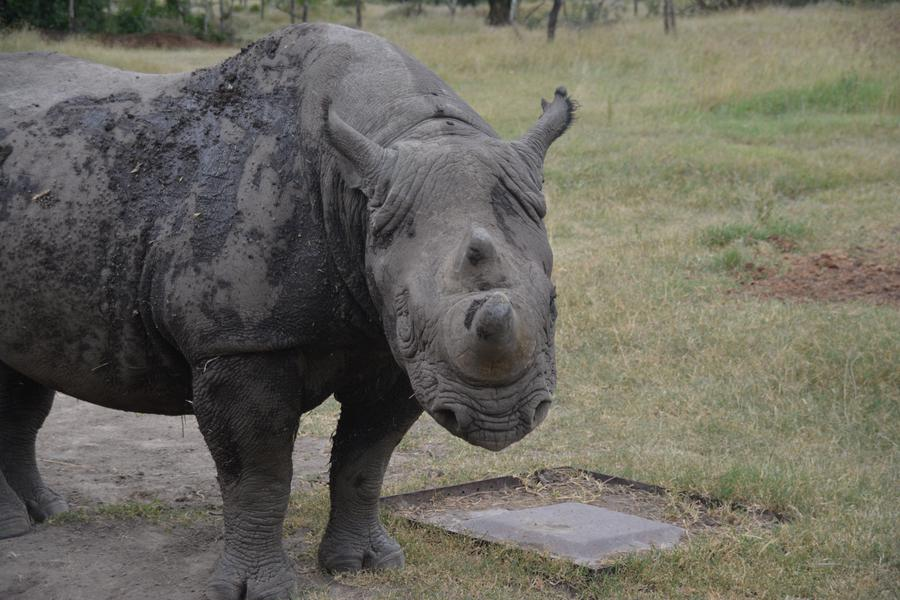rhino: (23, 22, 573, 522)
